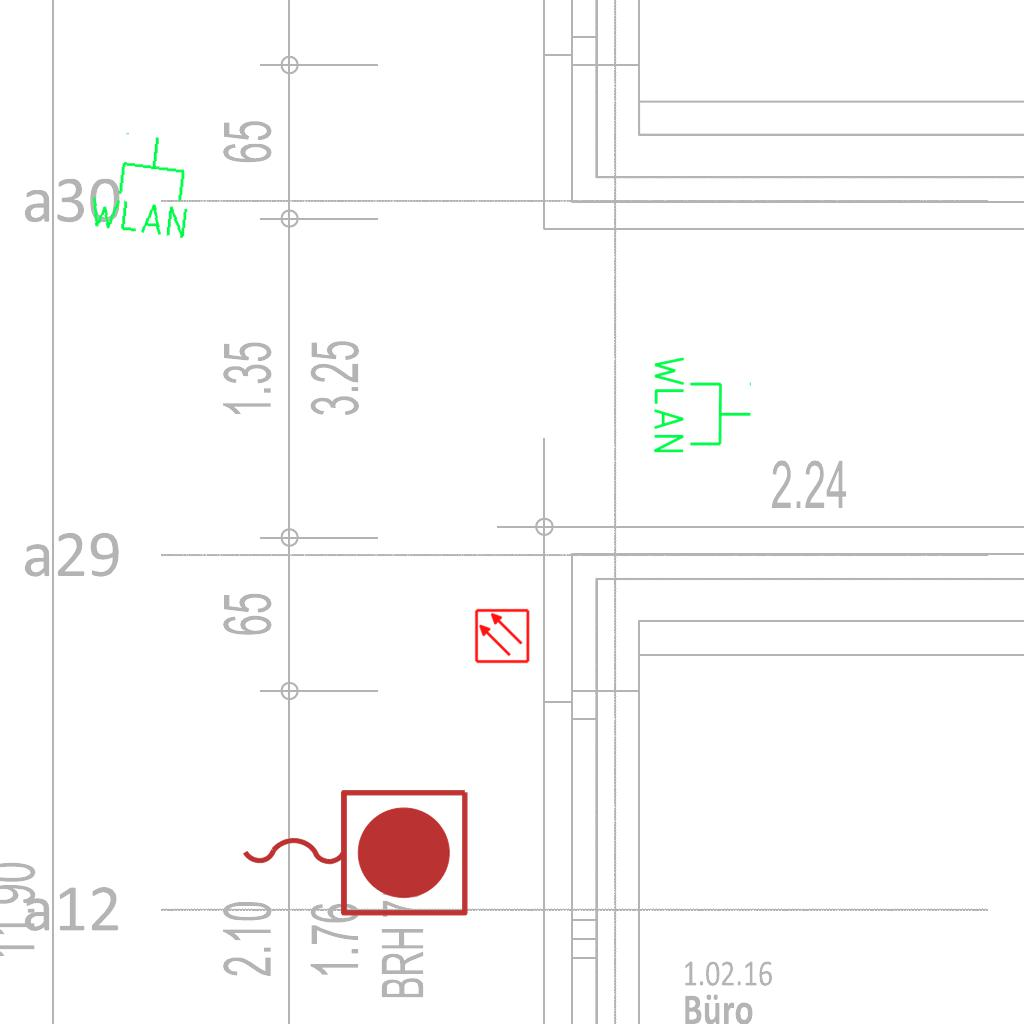RMO_Rauchmelder_optischer: (474, 608, 530, 664)
WLAN: (83, 126, 201, 243), (650, 352, 754, 457)
Zugtaster: (232, 779, 476, 923)
